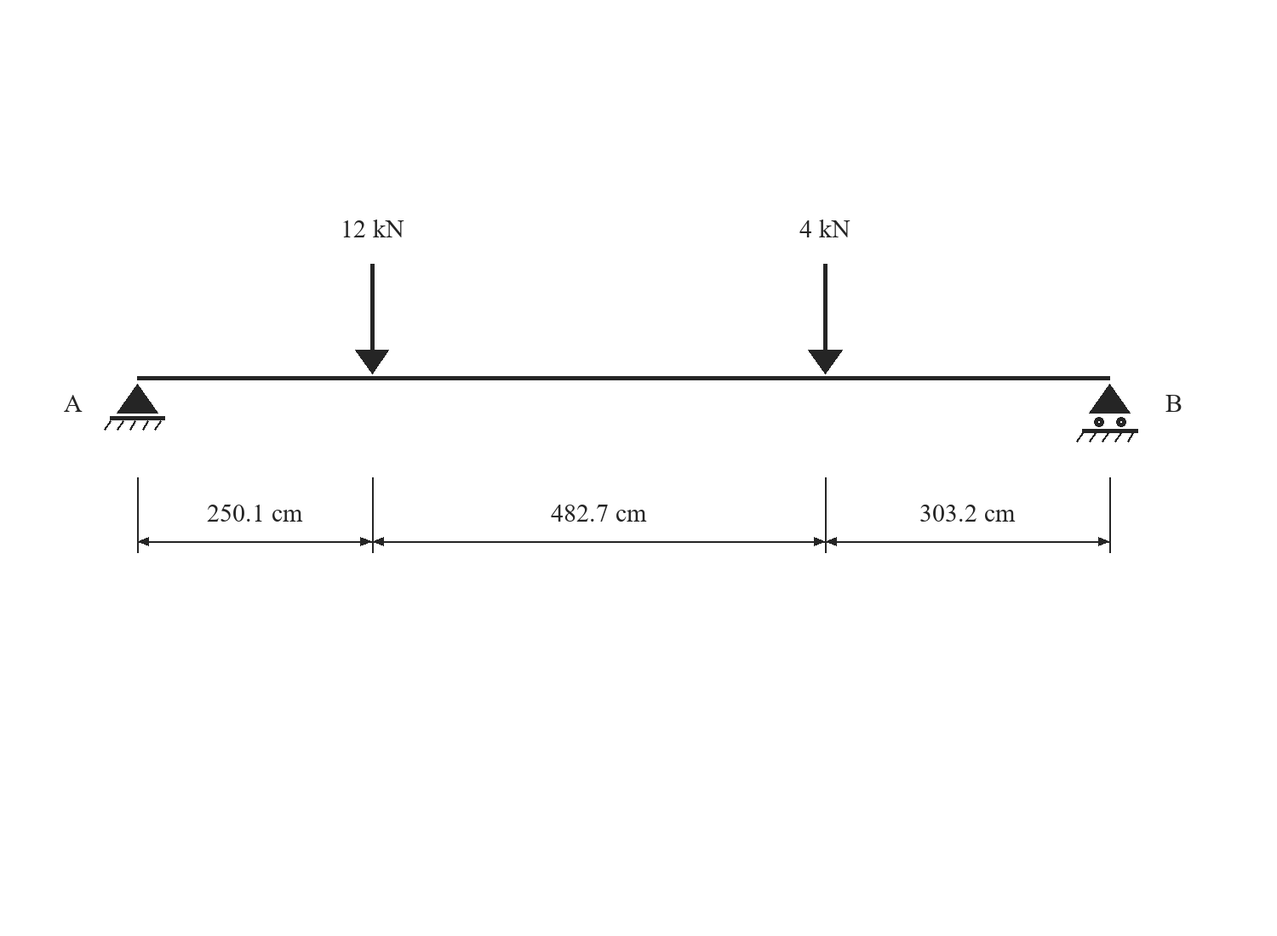pin_support: (104, 384, 165, 431)
point_load: (808, 264, 843, 374), (355, 264, 389, 374)
roller_support: (1076, 384, 1138, 442)
